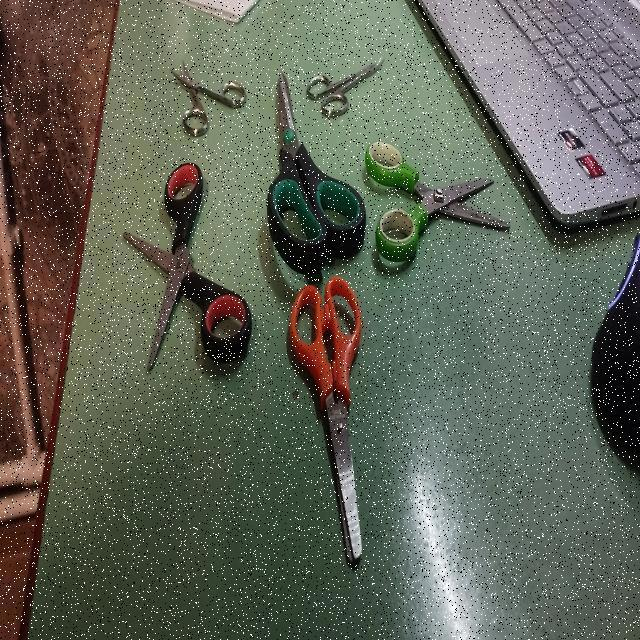scissors: (121, 154, 253, 382), (261, 56, 373, 282), (286, 272, 364, 575), (365, 134, 511, 268), (169, 56, 247, 141), (305, 55, 385, 122)
